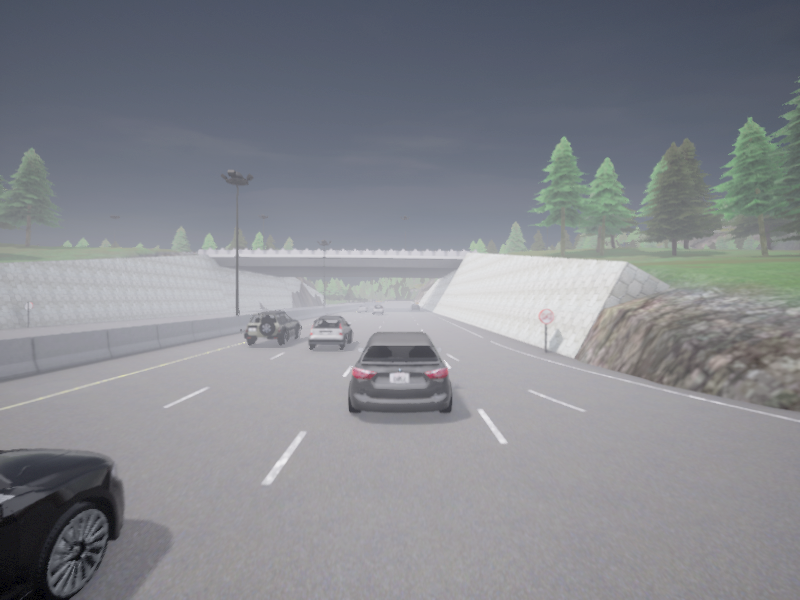vehicle: (0, 449, 123, 599), (348, 331, 452, 413), (244, 309, 301, 344), (308, 316, 352, 349), (373, 305, 384, 314), (358, 305, 368, 312), (411, 304, 419, 309)
